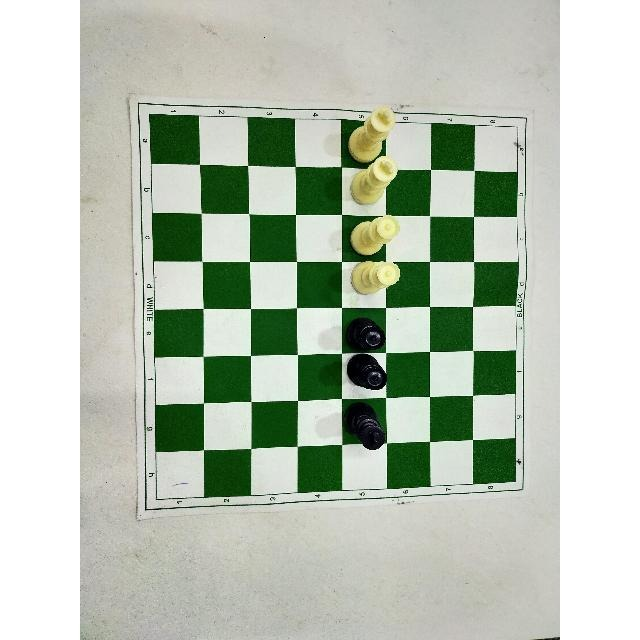black-king: (341, 398, 389, 452)
black-queen: (344, 350, 390, 393), (342, 314, 387, 353)
white-king: (345, 102, 397, 166), (348, 153, 400, 208)
white-queen: (347, 212, 402, 260), (348, 259, 403, 297)
